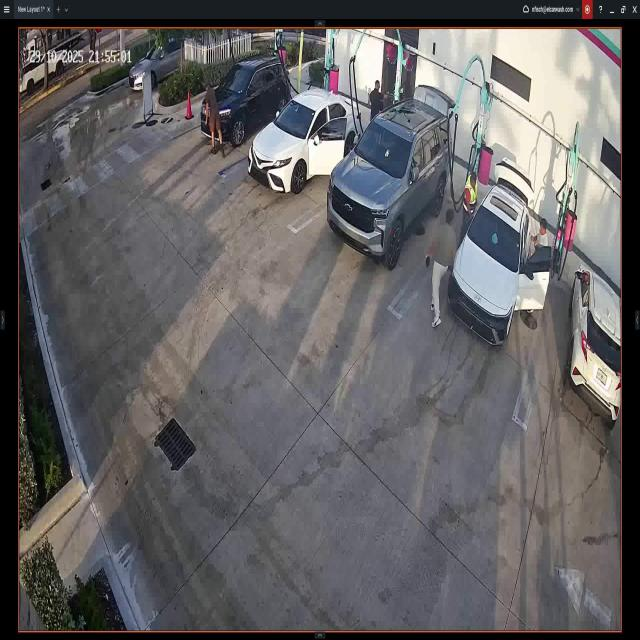Car: (328, 93, 453, 265), (445, 178, 550, 342), (250, 85, 360, 192), (568, 261, 622, 423), (203, 54, 291, 141), (130, 32, 190, 97)
